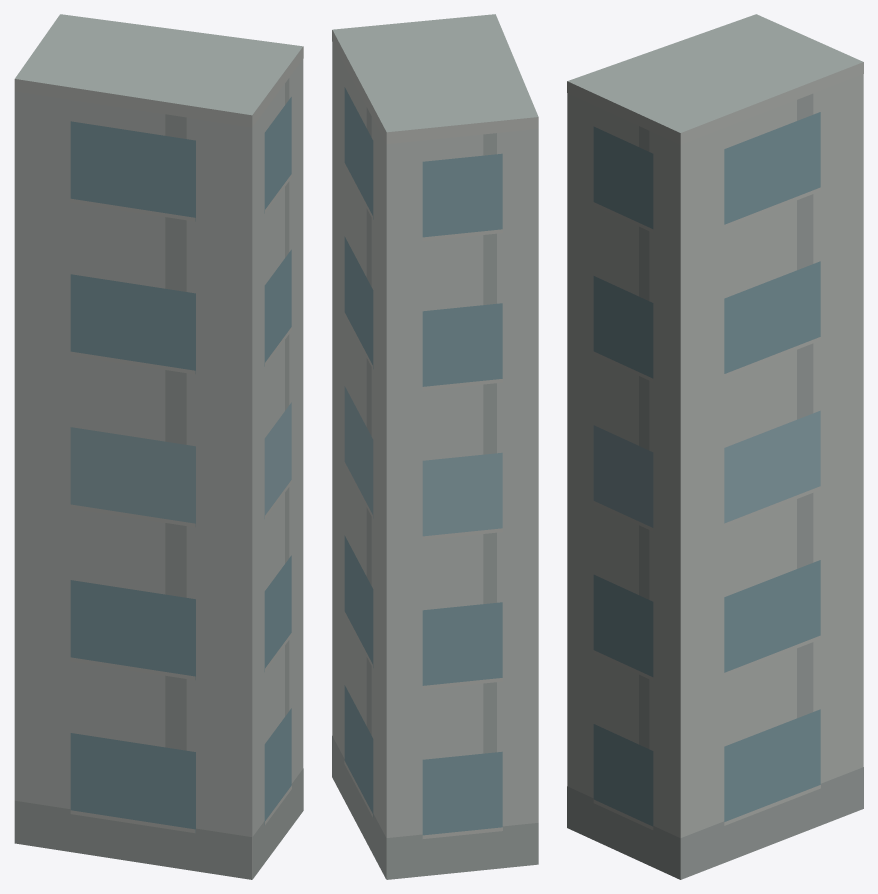
The model's file is survey-upis-32782703.glb.
The picture shows the model from 3 angles, left to right: view 1: azimuth 30°, elevation 25°; view 2: azimuth 150°, elevation 25°; view 3: azimuth 270°, elevation 25°; orthographic projection. The views are drawn at different scales.
Parts seen in each view (by area): view 1: survey-upis-32782703.tmp; view 2: survey-upis-32782703.tmp; view 3: survey-upis-32782703.tmp.
Part boxes in pixels (box(x1,y1,x2,y2)): survey-upis-32782703.tmp: box(14, 14, 303, 879); survey-upis-32782703.tmp: box(332, 14, 538, 879); survey-upis-32782703.tmp: box(567, 14, 863, 879).
Size of the model in its own units: 5.22 by 15.25 by 5.49.
